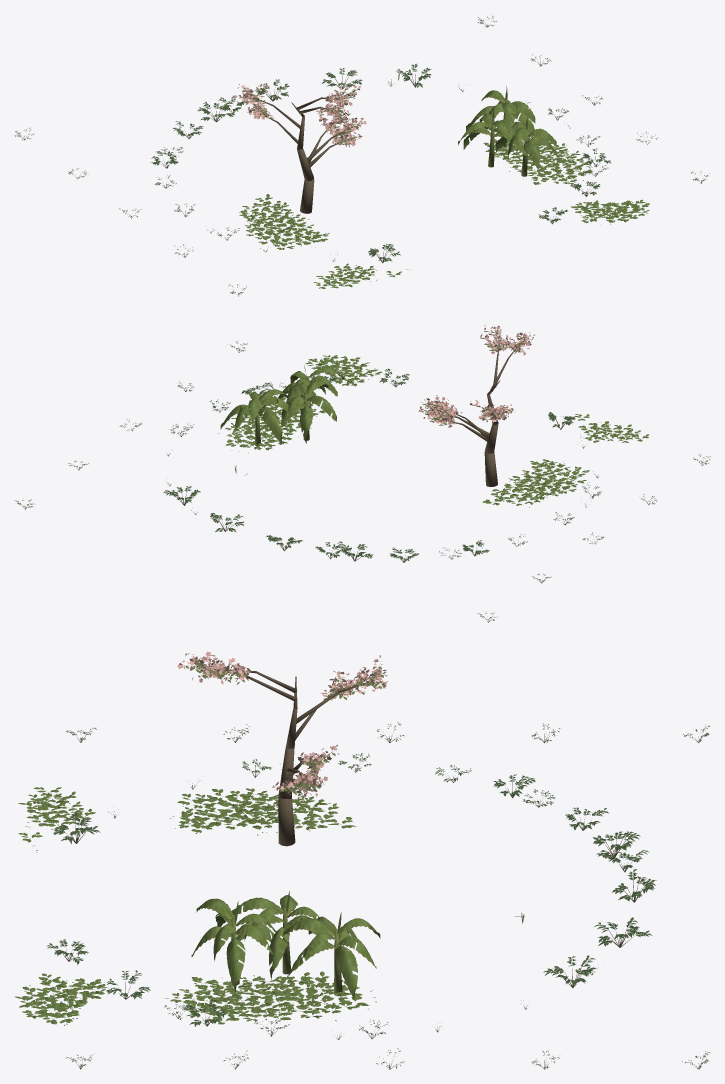
Rendered from yihongyuan.glb.
3 renders of one model, top to bottom at view 1: azimuth 30°, elevation 25°; view 2: azimuth 150°, elevation 25°; view 3: azimuth 270°, elevation 25°, orthographic. The views are drawn at different scales.
Visible parts, largest first — view 1: Mobile_yihongyuan_botanical_bamboo, Mobile_yihongyuan_plants, Mobile_yihongyuan_botanical_banana, Mobile_yihongyuan_botanical_petal, Mobile_yihongyuan_botanical_stem; view 2: Mobile_yihongyuan_botanical_bamboo, Mobile_yihongyuan_plants, Mobile_yihongyuan_botanical_banana, Mobile_yihongyuan_botanical_petal, Mobile_yihongyuan_botanical_stem; view 3: Mobile_yihongyuan_botanical_bamboo, Mobile_yihongyuan_plants, Mobile_yihongyuan_botanical_banana, Mobile_yihongyuan_botanical_petal, Mobile_yihongyuan_botanical_stem.
Part boxes in pixels (x1,y1,x2,y2): Mobile_yihongyuan_botanical_bamboo: (239,87,649,288); Mobile_yihongyuan_plants: (14,14,709,296); Mobile_yihongyuan_botanical_banana: (458,86,557,168); Mobile_yihongyuan_botanical_petal: (232,83,366,147); Mobile_yihongyuan_botanical_stem: (251,90,636,286); Mobile_yihongyuan_botanical_bamboo: (225,331,648,505); Mobile_yihongyuan_plants: (14,331,710,622); Mobile_yihongyuan_botanical_banana: (220,365,343,444); Mobile_yihongyuan_botanical_petal: (419,325,534,427); Mobile_yihongyuan_botanical_stem: (232,363,624,502); Mobile_yihongyuan_botanical_bamboo: (14,660,385,1024); Mobile_yihongyuan_plants: (46,658,710,1069); Mobile_yihongyuan_botanical_banana: (191,890,380,999); Mobile_yihongyuan_botanical_petal: (177,651,387,800); Mobile_yihongyuan_botanical_stem: (25,791,369,1018).
Size of the model in its own units: 31.35 by 8.4 by 27.06.
6 materials, 5 textured.
